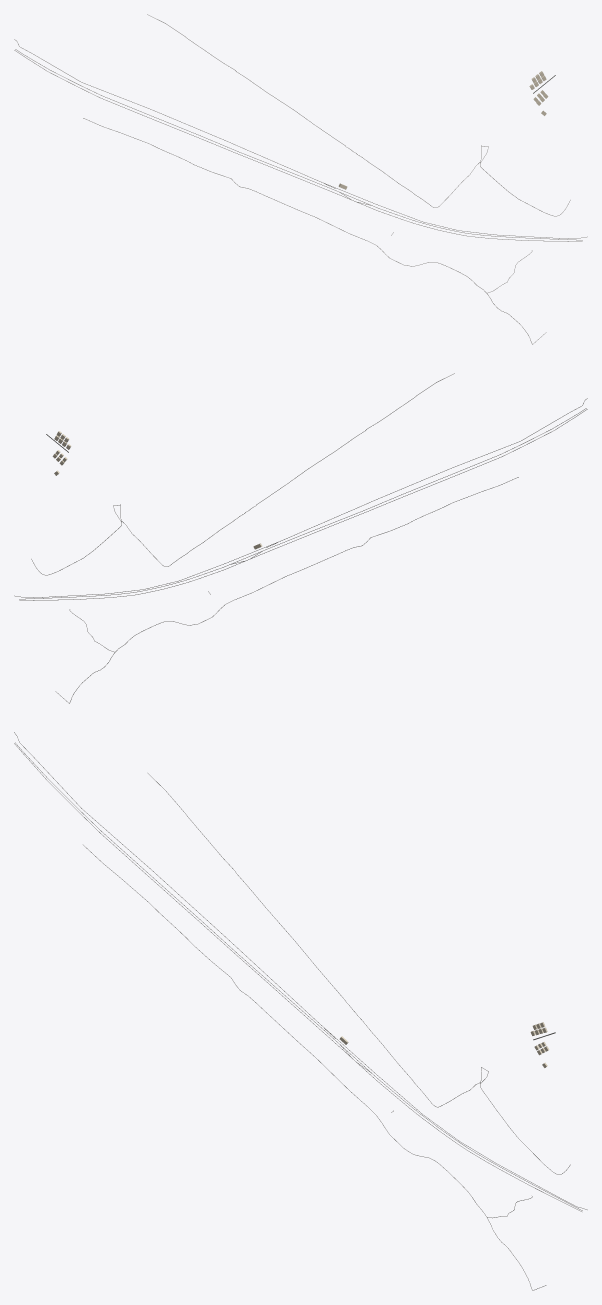
File: historic-palestine-08_24_3497_3186.glb
3 views of the same model, one above another, from view 1: azimuth 30°, elevation 25°; view 2: azimuth 150°, elevation 25°; view 3: azimuth 330°, elevation 25° (orthographic).
Parts seen in each view (by area): view 1: Road .002, Road קו הרכבת המהיר לירושלים - A1.001, Road קו הרכבת המהיר לירושלים - A1, Road; view 2: Road .002, Road קו הרכבת המהיר לירושלים - A1.001, Road קו הרכבת המהיר לירושלים - A1, Road; view 3: no part large enough to name.
Boxes of the visible parts, bbox=[...] form: Road .002: bbox=[14, 39, 587, 238]; Road קו הרכבת המהיר לירושלים - A1.001: bbox=[14, 50, 582, 241]; Road קו הרכבת המהיר לירושלים - A1: bbox=[15, 49, 582, 240]; Road: bbox=[83, 118, 532, 344]; Road .002: bbox=[14, 398, 587, 597]; Road קו הרכבת המהיר לירושלים - A1.001: bbox=[19, 409, 587, 600]; Road קו הרכבת המהיר לירושלים - A1: bbox=[19, 408, 586, 599]; Road: bbox=[69, 477, 518, 703].
Bounding box in the file's own units: 2311 × 1664 × 8.7.
